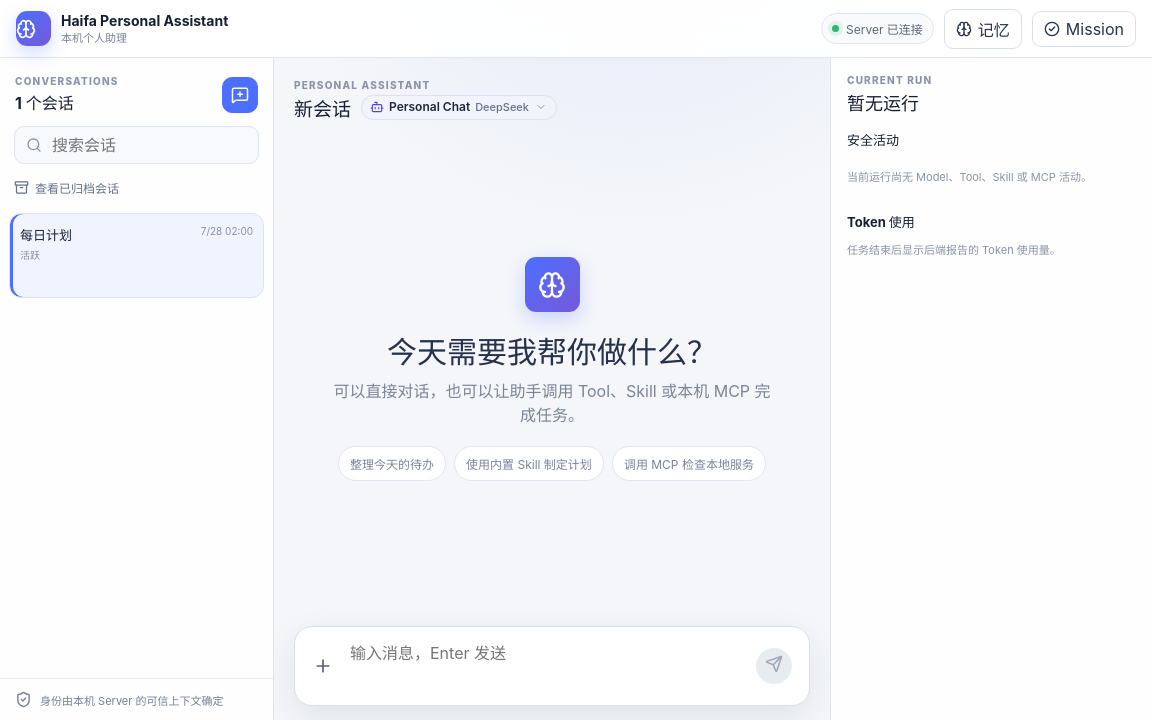
Test: Personal Assistant application › opens the current Mission instead of creating a second active Mission
Expected: the text "每日计划" is shown, [20, 227, 72, 243]
Type "/deep-research 研究新的数据库主题" into the text box named "给个人助理发送消息" at [548, 666], box [349, 636, 747, 696]
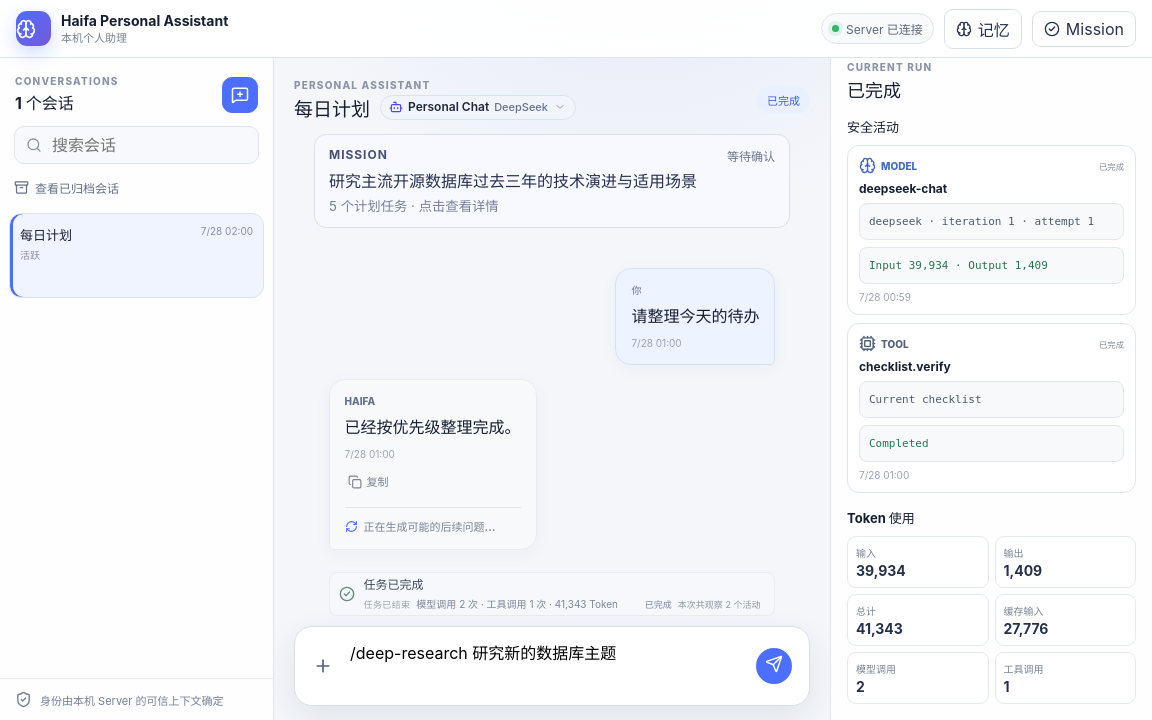
Submit the form named "给个人助理发送消息", box [294, 626, 810, 706]
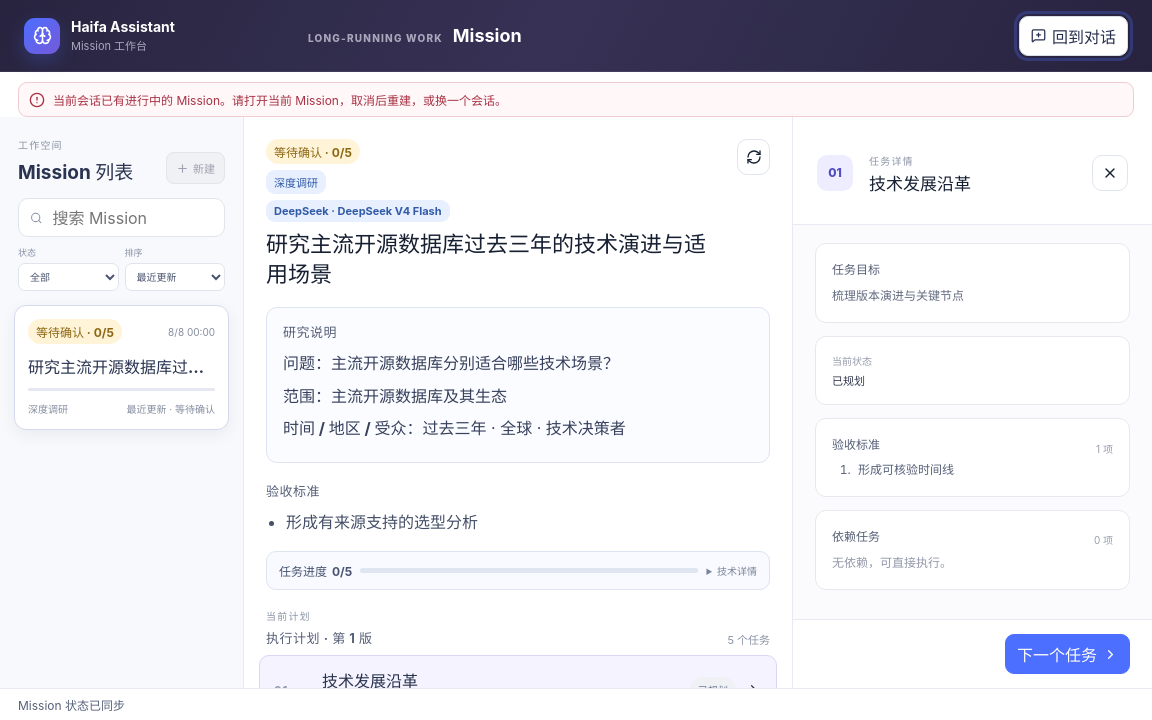
Expected: the message "当前会话已有进行中的 Mission。请打开当前 Mission，取消后重建，或换一个会话。" is shown, [18, 82, 1134, 117]
Expected: the text "研究主流开源数据库过去三年的技术演进与适用场景" is shown 2 times, [28, 354, 215, 378]; [266, 230, 723, 289]
